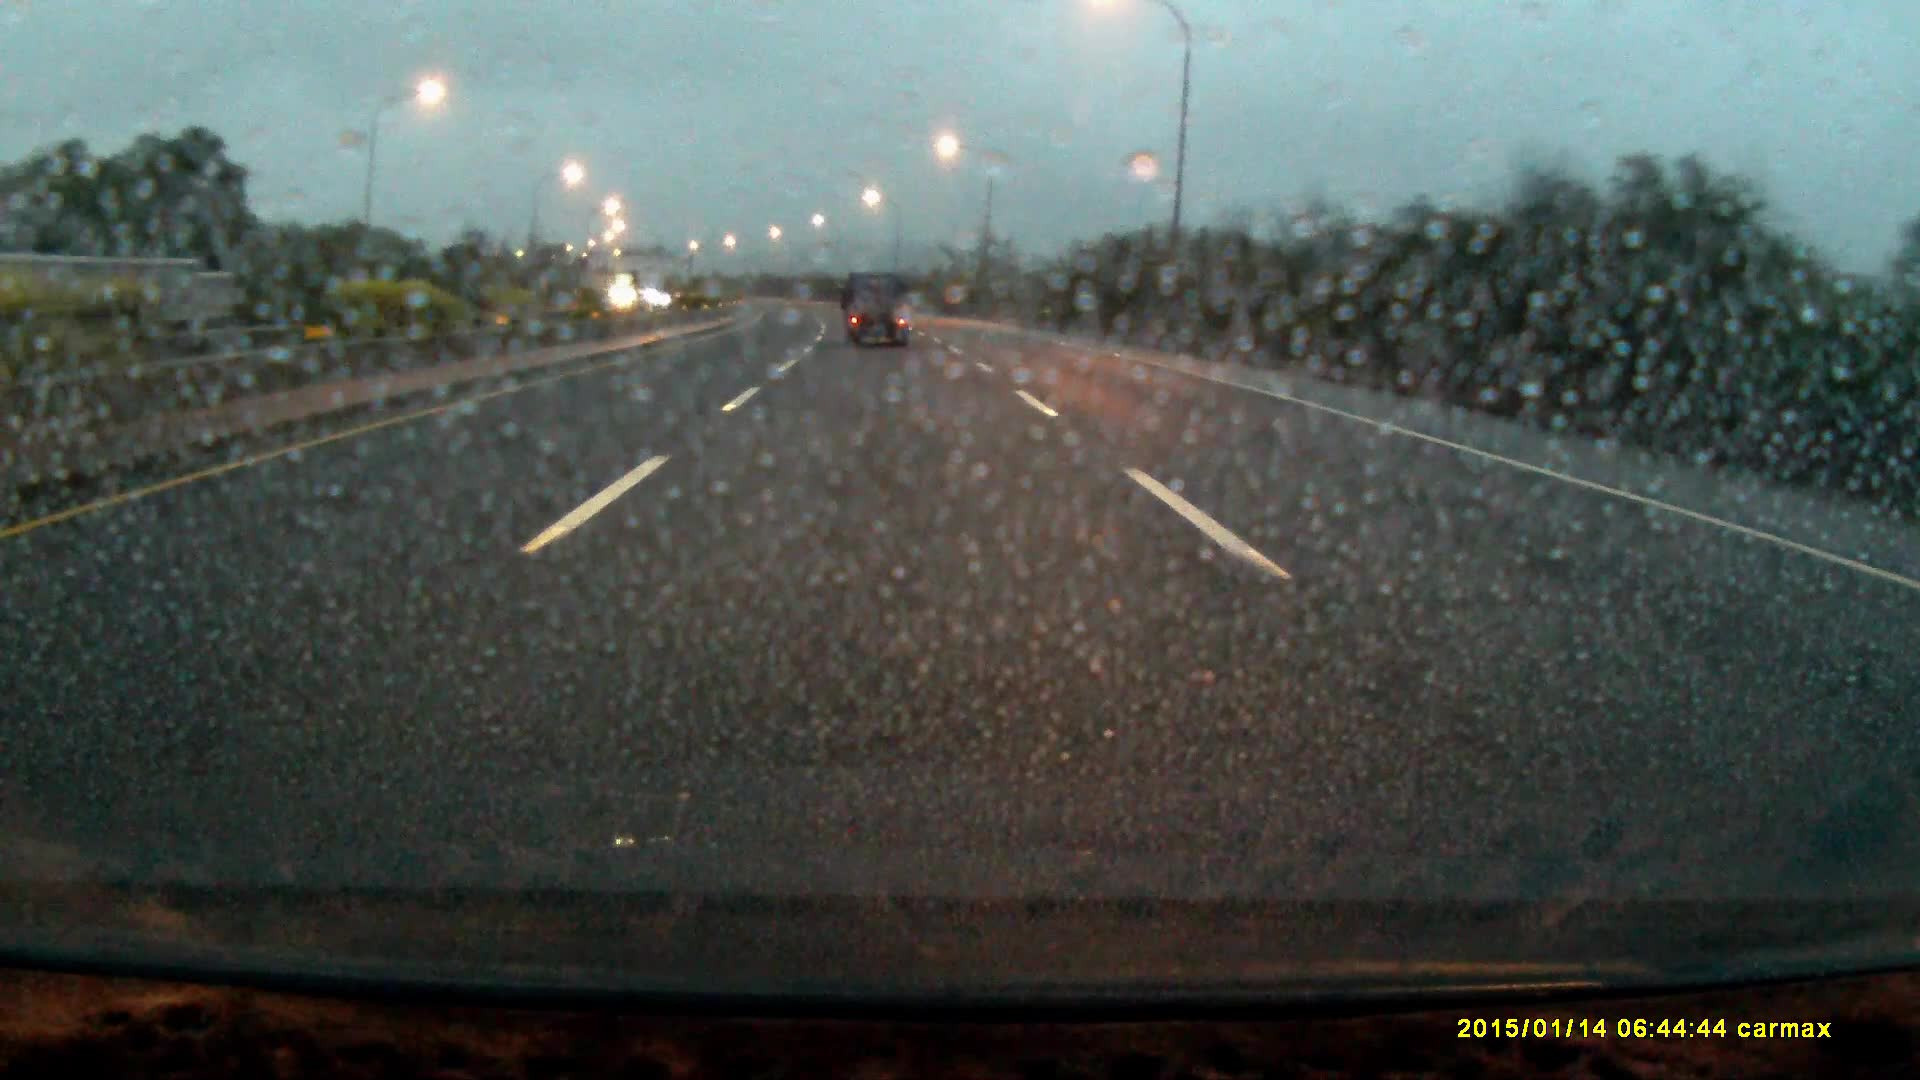vehicle: (843, 273, 913, 353)
